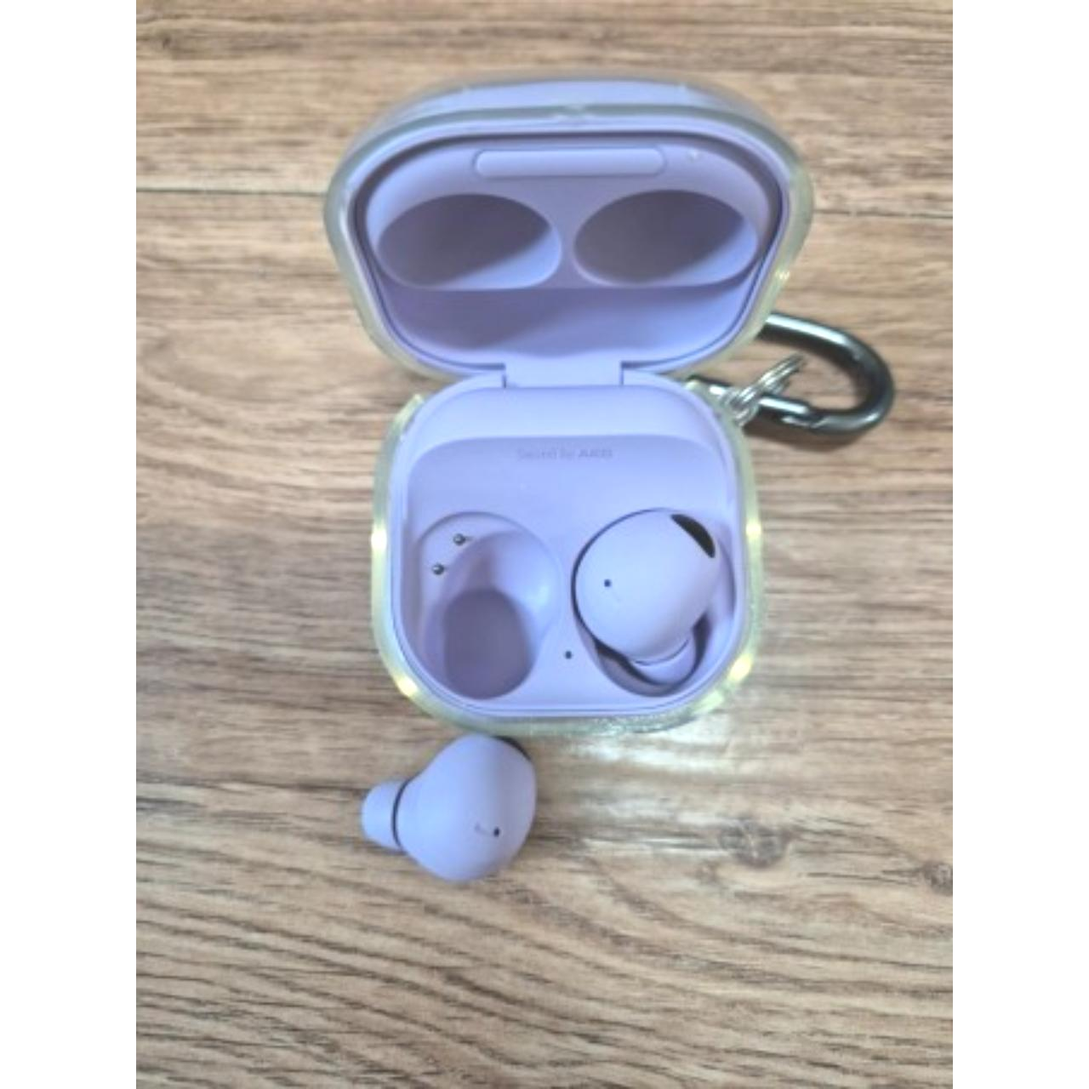Buds: (316, 68, 819, 737)
Buds_Units: (571, 501, 741, 699), (353, 727, 549, 893)
